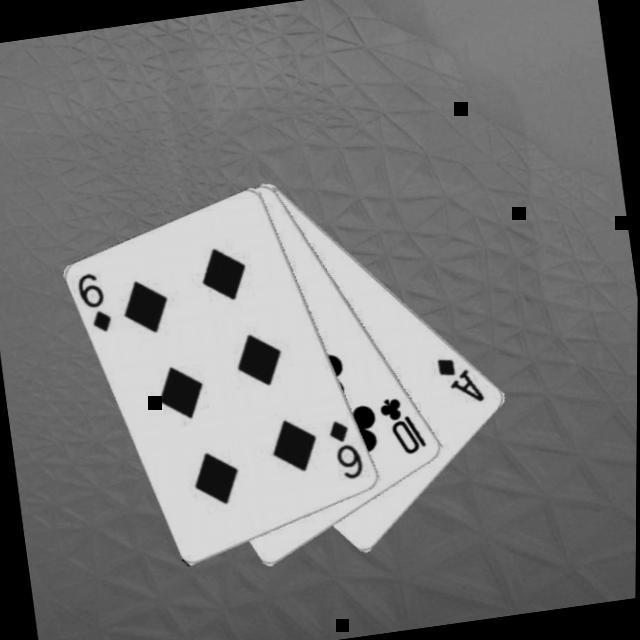10C: (376, 392, 434, 462)
6D: (74, 268, 119, 338), (326, 416, 370, 486)
AD: (435, 349, 491, 412)
